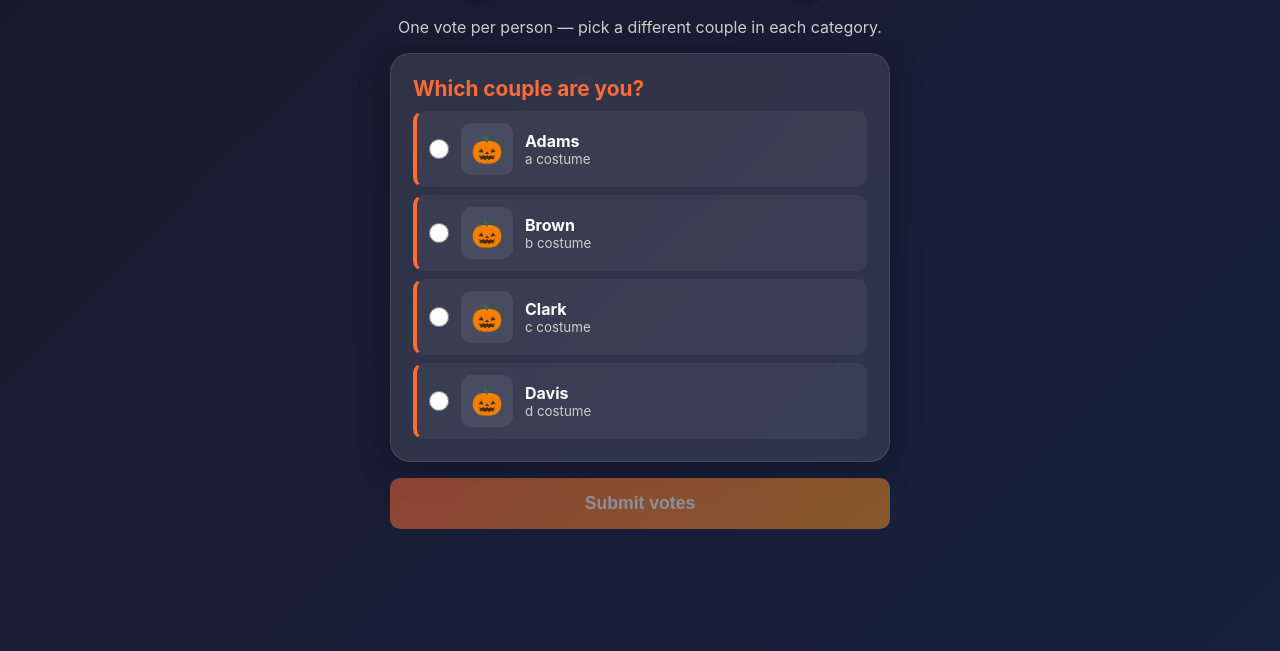
Test: Vote form › reports a connection problem, without retrying slot 2, on a non-rules failure
Click the radio button labelled "🎃 Brown b costume" at coordinates (439, 233), box [429,223,449,243]
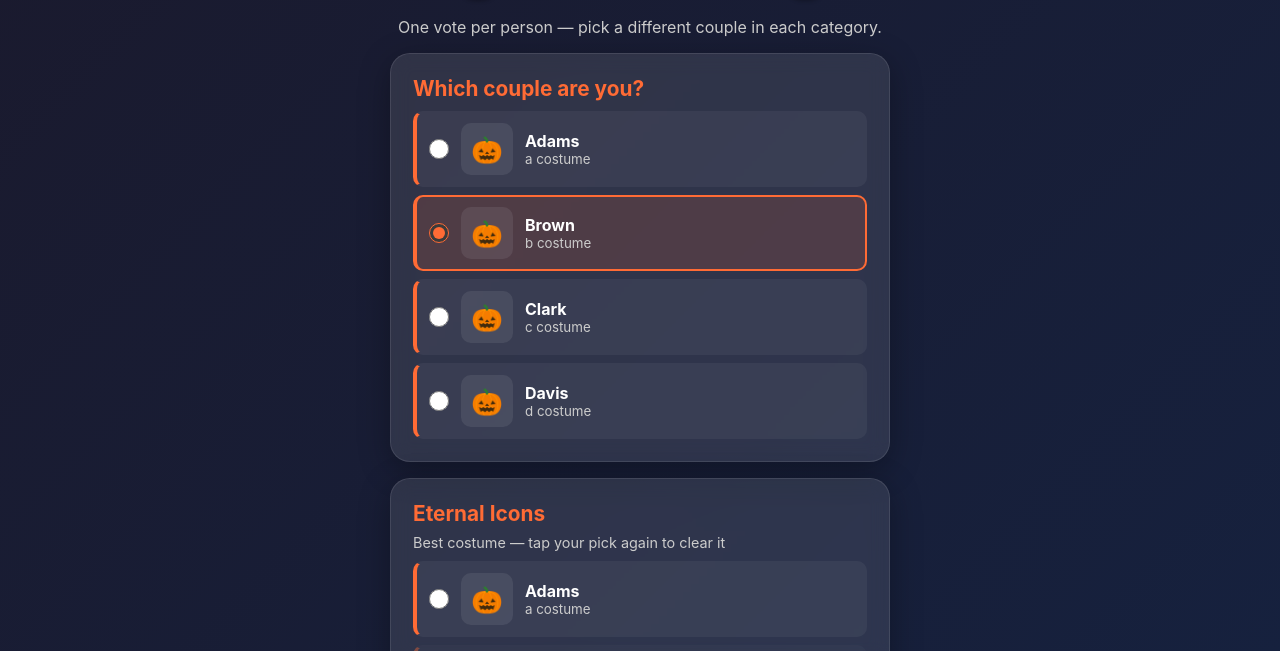
Click the radio button labelled "🎃 Adams a costume" below "Best costume" at coordinates (439, 599), box [429,589,449,609]
(page scrolled)
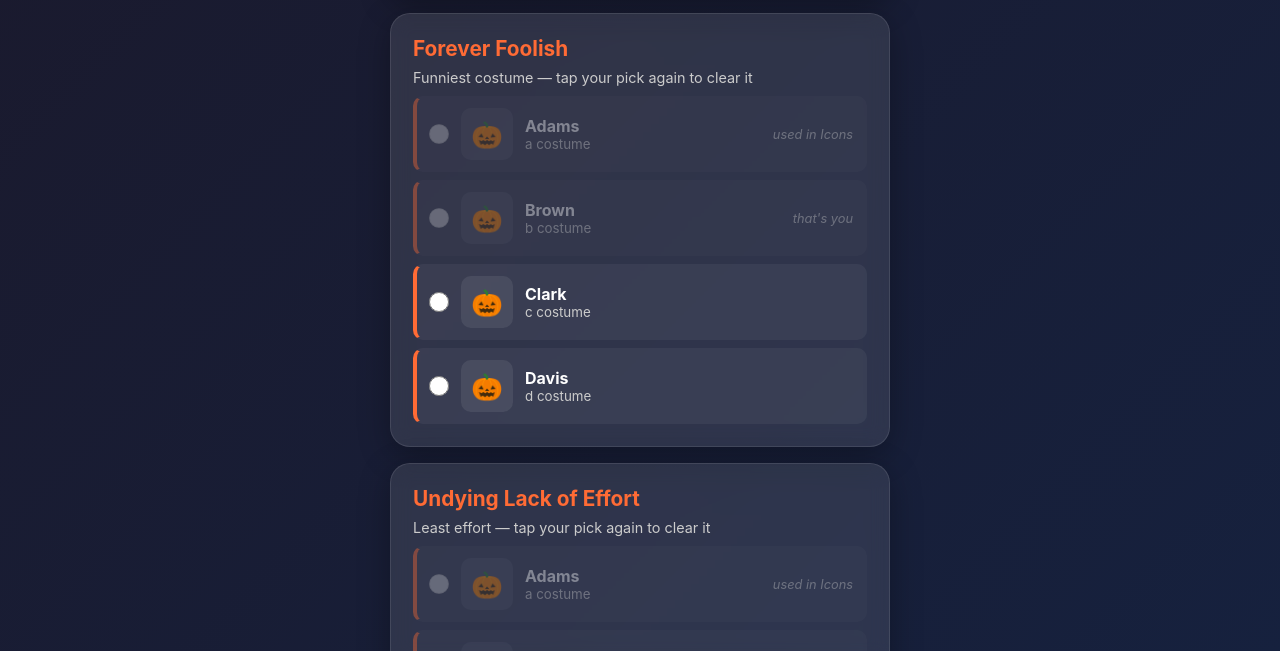
Click the radio button labelled "🎃 Clark c costume" at coordinates (439, 302), box [429,292,449,312]
(page scrolled)
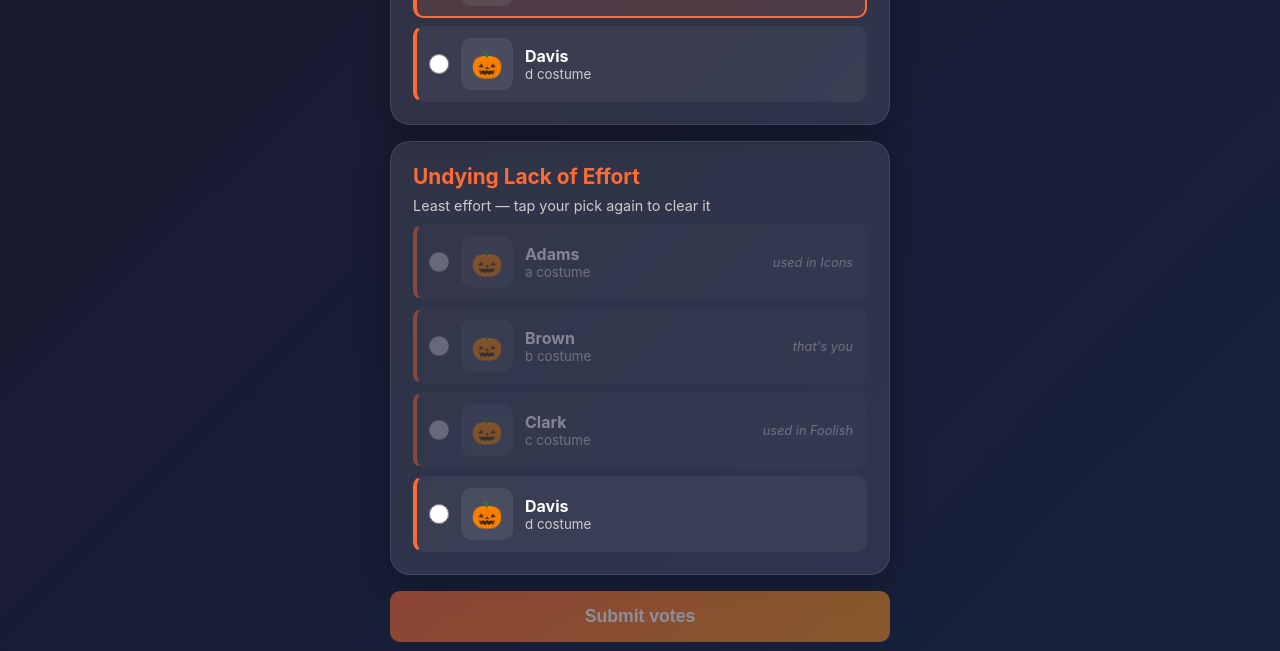
Click the radio button labelled "🎃 Davis d costume" below "Least effort" at coordinates (439, 514), box [429,504,449,524]
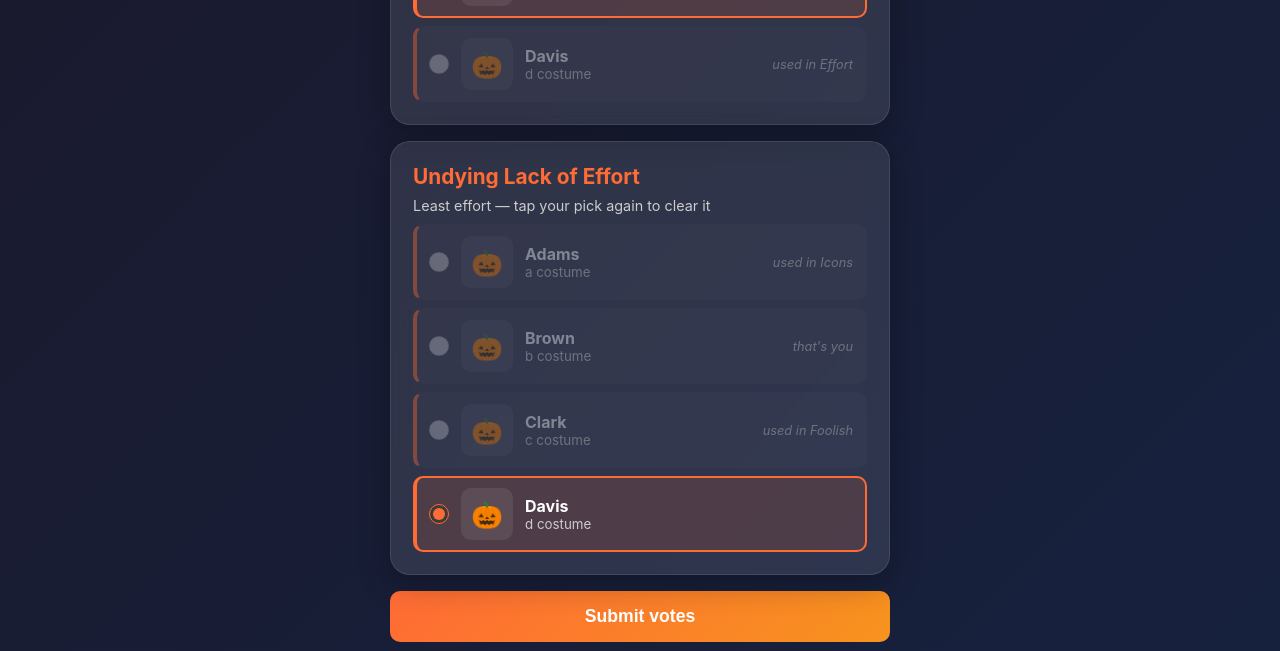
Click the button "Submit votes" at coordinates (640, 616), box [390,591,890,642]
(page scrolled)
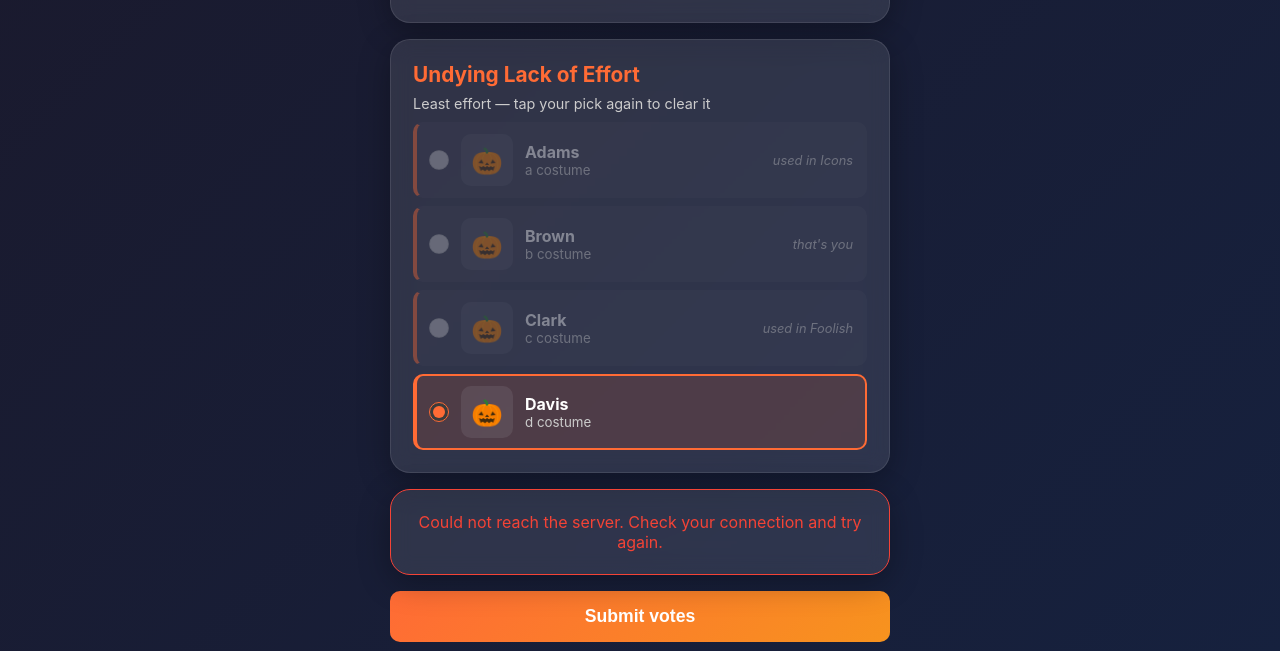
Now the button "Submit votes" is enabled, box [390,591,890,642]
Now the text "Check your connection" is shown, box [418,512,861,552]
